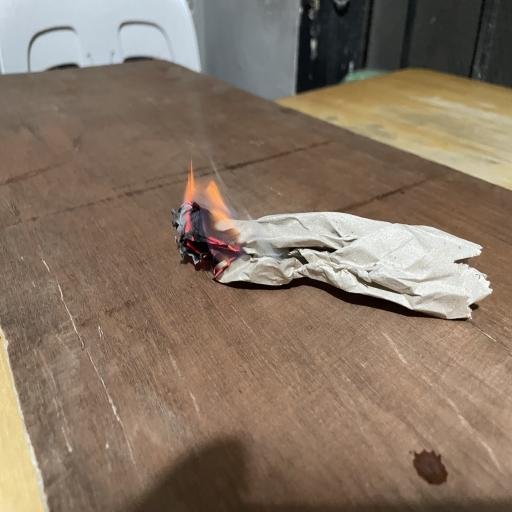fire: (167, 132, 269, 309)
